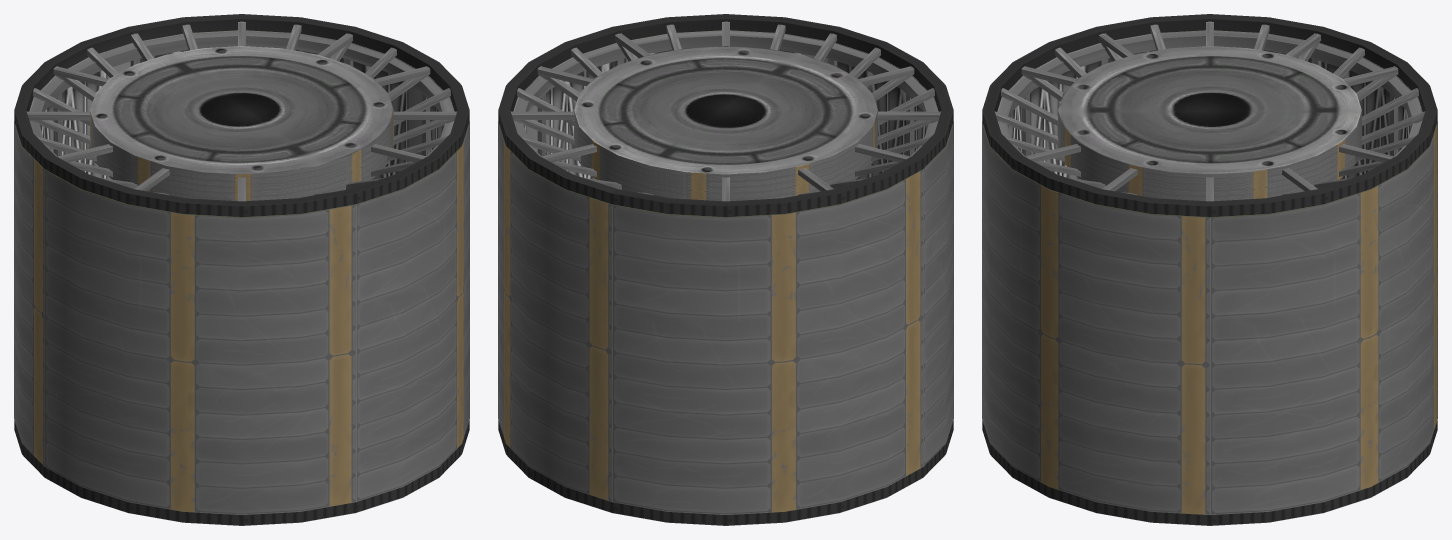
The model's file is ShortInterstageAdapter.FBX.
3 views of the same model, side by side, from view 1: azimuth 30°, elevation 25°; view 2: azimuth 150°, elevation 25°; view 3: azimuth 270°, elevation 25° (orthographic).
Parts seen in each view (by area): view 1: ShroudTube, ThrusterPlate, Upper Support Ring, LowerSupportRing002, LowerSupportRing, Box165, Box163, Box162, Box166; view 2: ShroudTube, ThrusterPlate, Upper Support Ring, LowerSupportRing002, LowerSupportRing, Box166, Box162, Box164, Box165; view 3: ShroudTube, ThrusterPlate, Upper Support Ring, LowerSupportRing002, LowerSupportRing, Box163, Box164, Box166, Box165, Box144, Box156, Box145 (+1 smaller).
Boxes of the visible parts, left/top/right/bottom form: ShroudTube: left=14, top=30, right=469, bottom=514; ThrusterPlate: left=90, top=46, right=393, bottom=200; Upper Support Ring: left=14, top=14, right=469, bottom=217; LowerSupportRing002: left=29, top=31, right=454, bottom=156; LowerSupportRing: left=14, top=420, right=469, bottom=525; Box165: left=28, top=111, right=456, bottom=120; Box163: left=54, top=66, right=426, bottom=162; Box162: left=57, top=66, right=429, bottom=162; Box166: left=134, top=34, right=352, bottom=191; ShroudTube: left=498, top=30, right=953, bottom=514; ThrusterPlate: left=574, top=46, right=877, bottom=200; Upper Support Ring: left=498, top=14, right=953, bottom=217; LowerSupportRing002: left=513, top=31, right=938, bottom=156; LowerSupportRing: left=498, top=420, right=953, bottom=525; Box166: left=511, top=111, right=939, bottom=120; Box162: left=538, top=66, right=910, bottom=162; Box164: left=541, top=66, right=913, bottom=162; Box165: left=615, top=34, right=833, bottom=191; ShroudTube: left=982, top=30, right=1437, bottom=514; ThrusterPlate: left=1058, top=46, right=1361, bottom=200; Upper Support Ring: left=982, top=14, right=1437, bottom=217; LowerSupportRing002: left=997, top=31, right=1422, bottom=156; LowerSupportRing: left=982, top=420, right=1437, bottom=525; Box163: left=1025, top=66, right=1397, bottom=162; Box164: left=1022, top=66, right=1394, bottom=162; Box166: left=1099, top=34, right=1317, bottom=191; Box165: left=1102, top=34, right=1320, bottom=191; Box144: left=1361, top=111, right=1425, bottom=144; Box156: left=994, top=111, right=1058, bottom=144; Box145: left=1362, top=88, right=1418, bottom=125.
Size of what is drawn, in the model's own units: 1.87 by 1.45 by 1.87.
